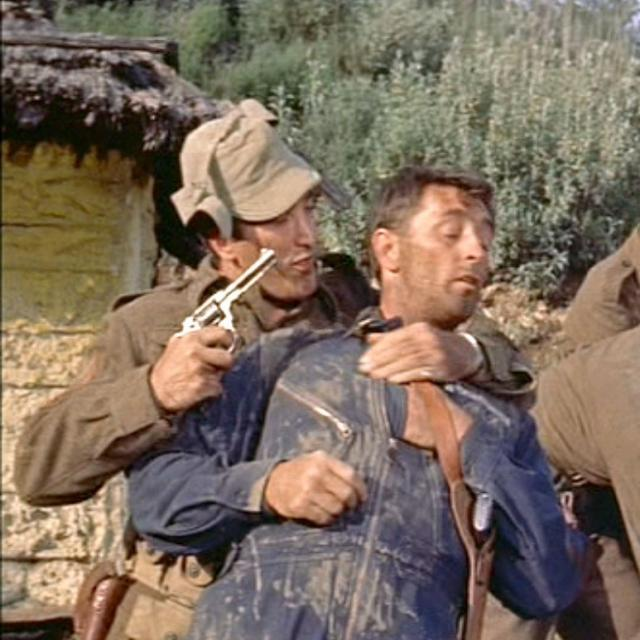gun-knife-thesis - v11 Yolov5 augmented: (152, 244, 276, 426)
